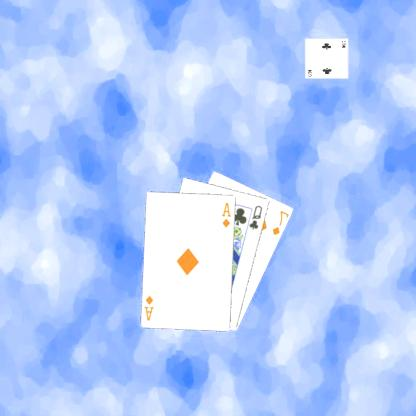7D: (272, 207, 292, 237)
AD: (220, 199, 235, 228), (144, 293, 157, 322)
QC: (248, 202, 266, 231)
